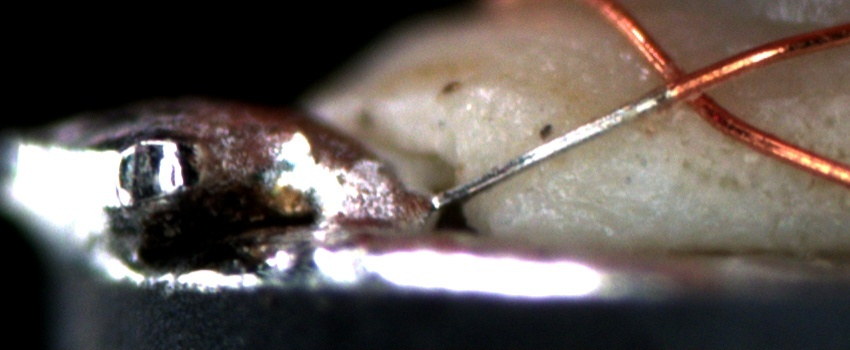CL: (647, 51, 735, 118)
TS: (431, 89, 671, 207)
